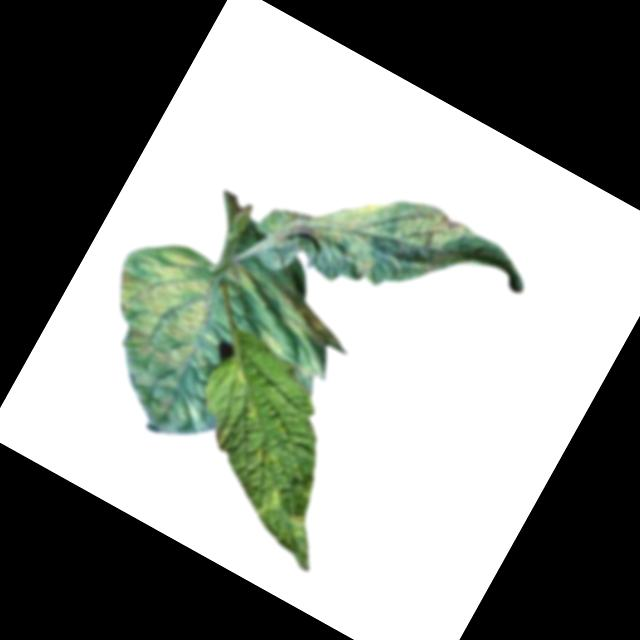Leaf_Mold: (261, 139, 478, 326), (60, 222, 235, 423), (243, 283, 355, 386), (246, 482, 318, 547)
